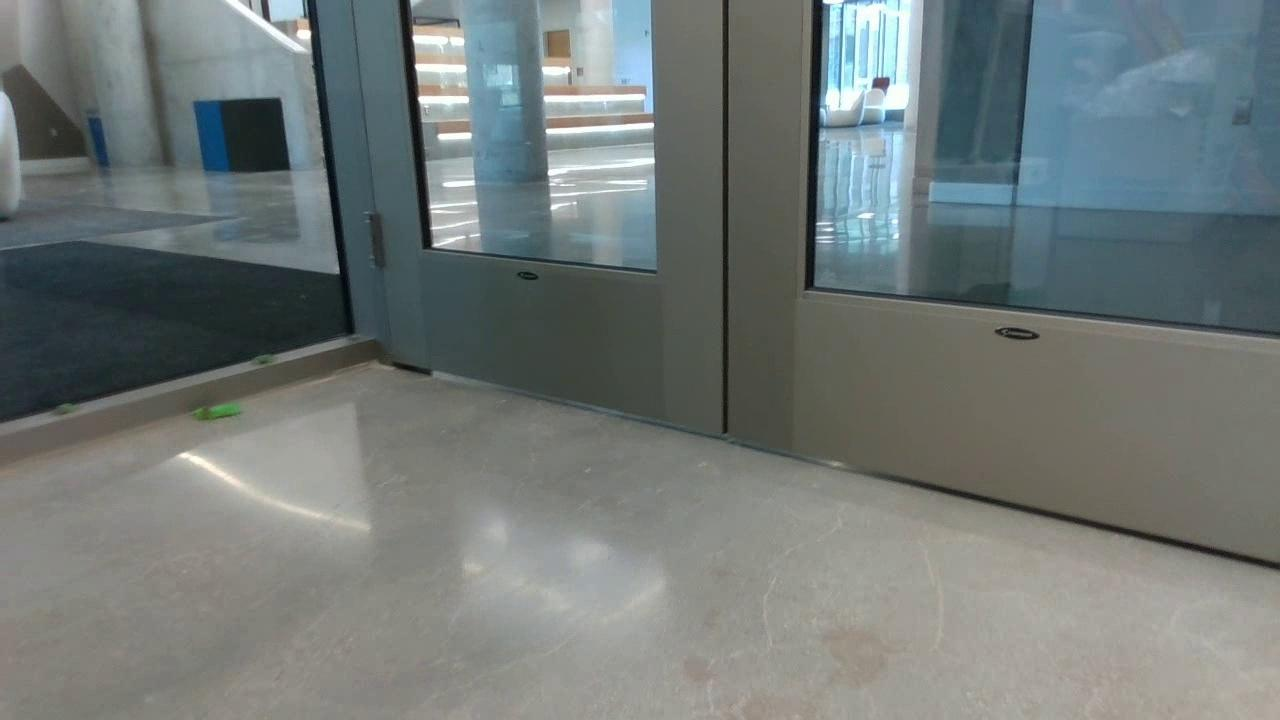grasshopper: (196, 400, 252, 419)
